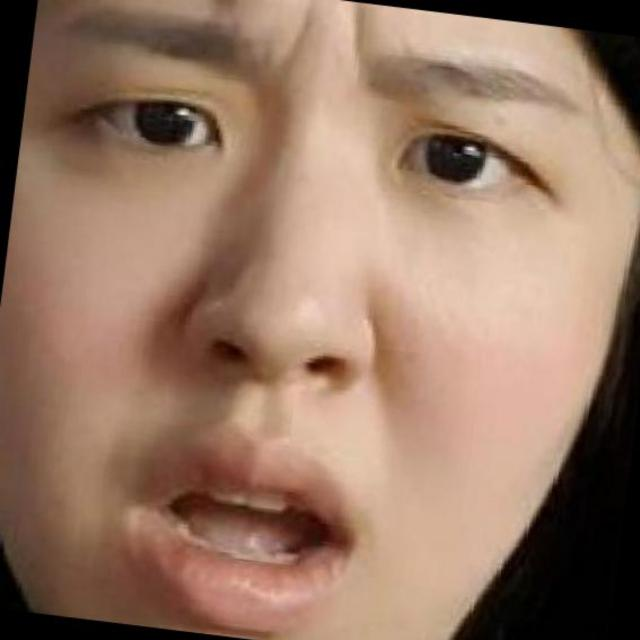Surprised: (24, 7, 639, 640)
